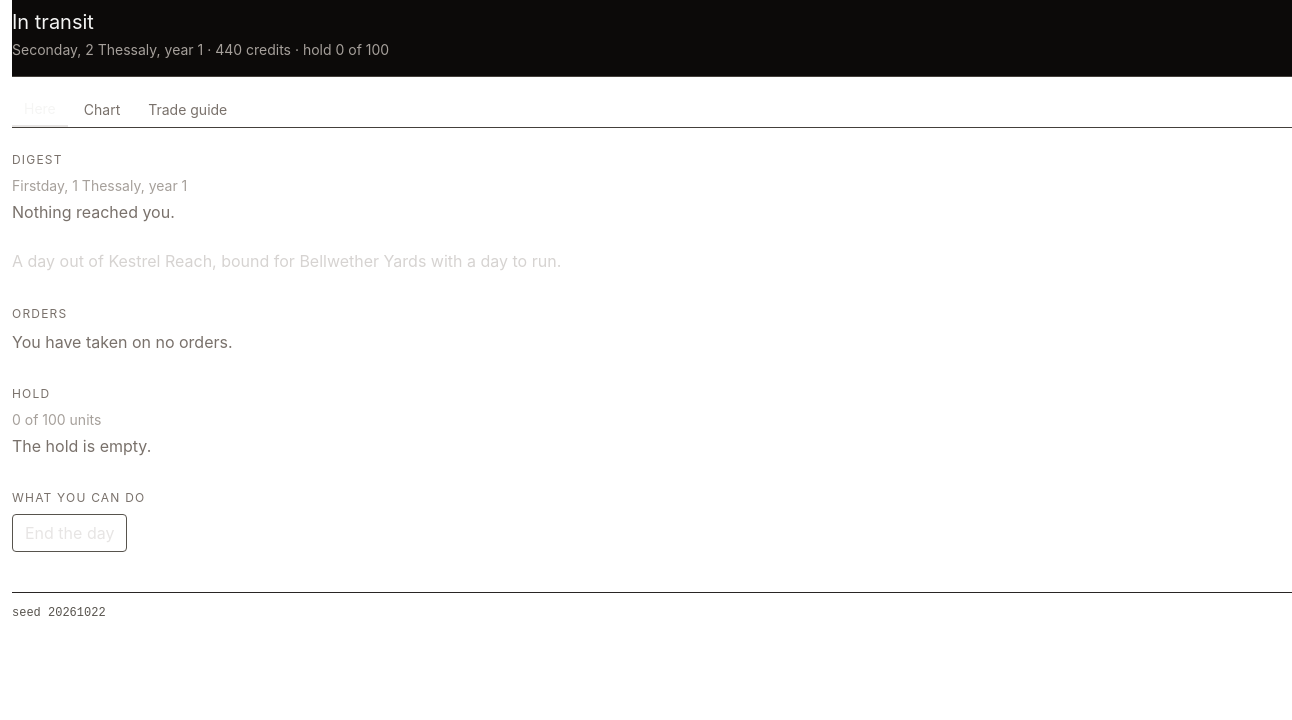
Test: the chart on the page › keeps the range reading while underway, and takes only the departures away
The width and height of the screenshot is (1292, 720).
Click the tab "Chart".
click(102, 110)  # box [72,93,132,127]
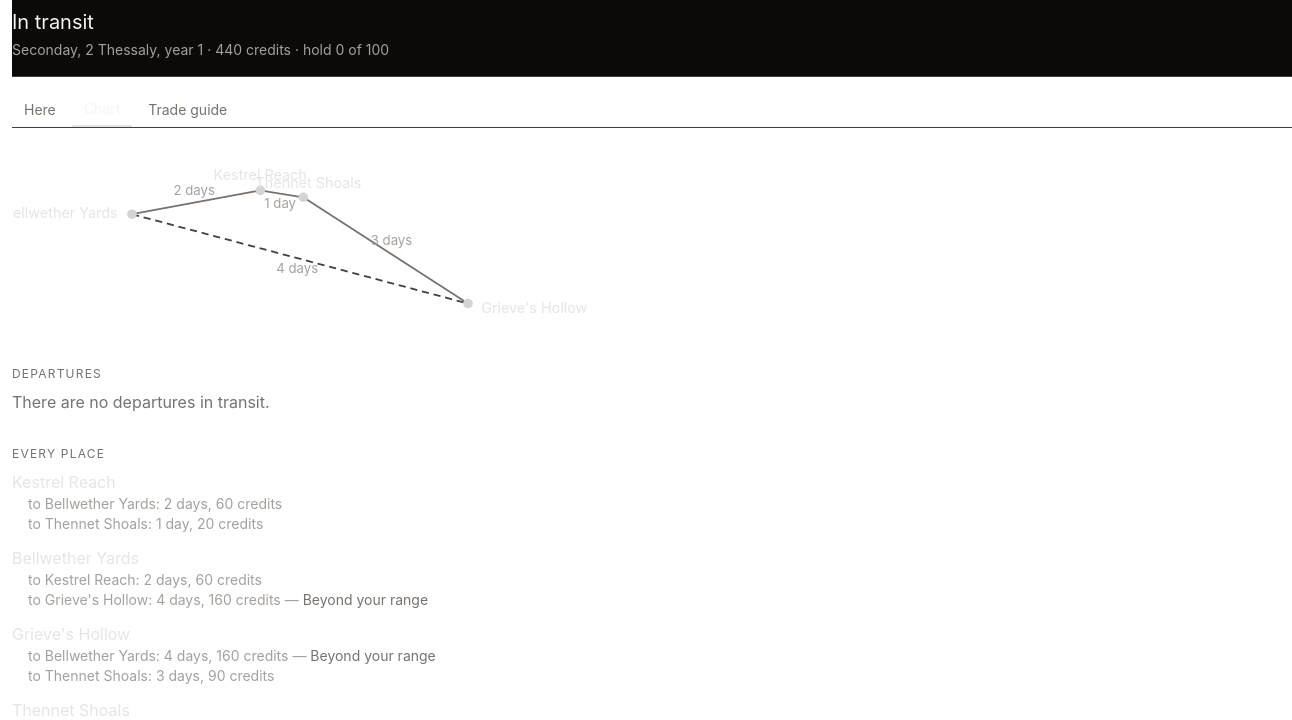
Result: the list item "to Bellwether Yards: 4 days, 160 credits — Beyond your range" is shown at [28,647,436,664]
